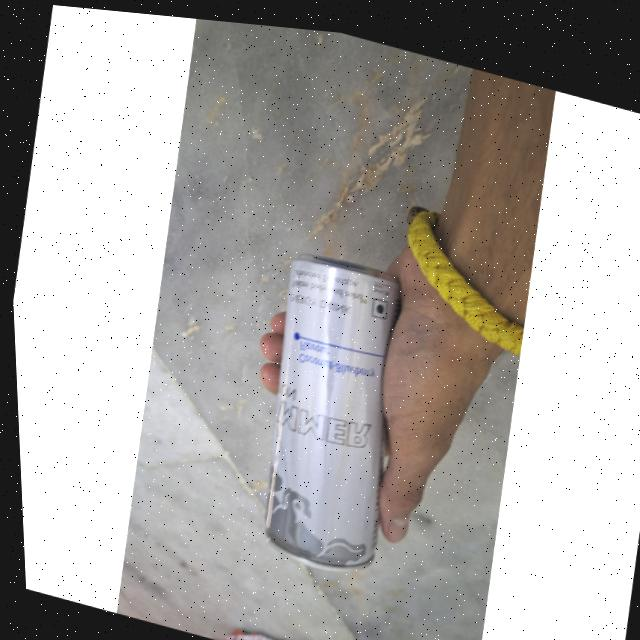Redbull Summer Edition: (227, 235, 420, 572)
